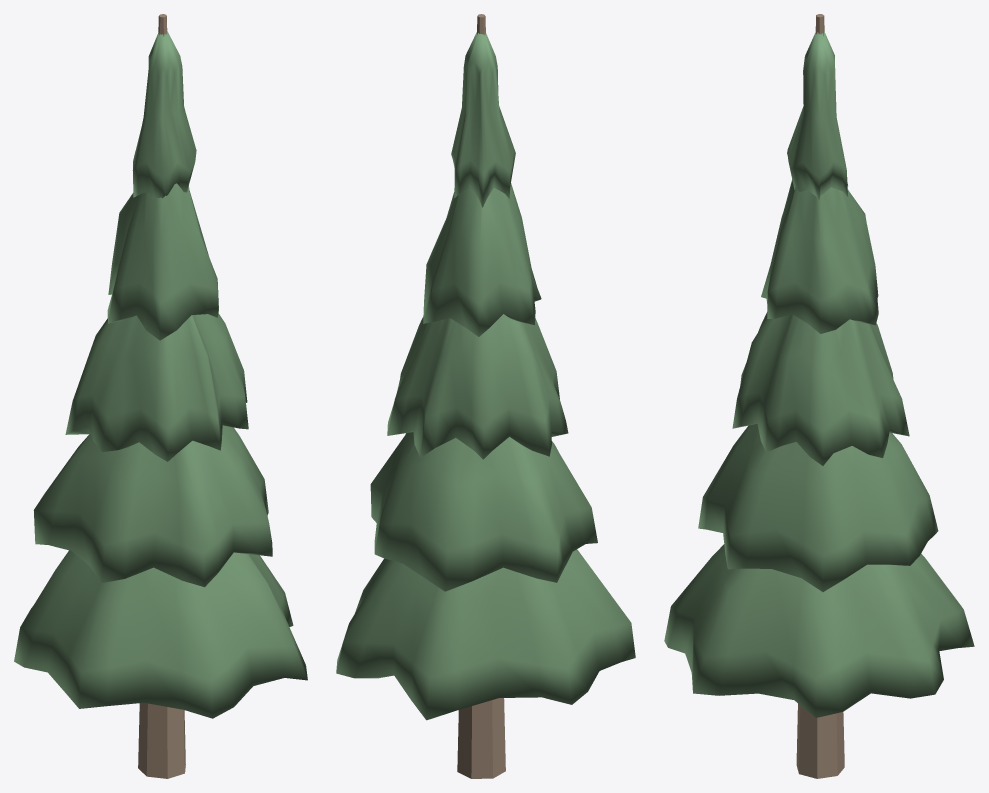
The model's file is tree_fir.glb.
The picture shows the model from 3 angles, left to right: view 1: azimuth 30°, elevation 25°; view 2: azimuth 150°, elevation 25°; view 3: azimuth 270°, elevation 25°; orthographic projection.
Visible parts, largest first — view 1: tree_fir; view 2: tree_fir; view 3: tree_fir.
Boxes of the visible parts, x1,y1,x2,y2 form: tree_fir: [14, 14, 307, 778]; tree_fir: [336, 14, 635, 778]; tree_fir: [664, 14, 974, 778].
Bounding box in the file's own units: 2.79 × 8 × 2.99.
